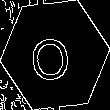O_N: (33, 28, 77, 82)
